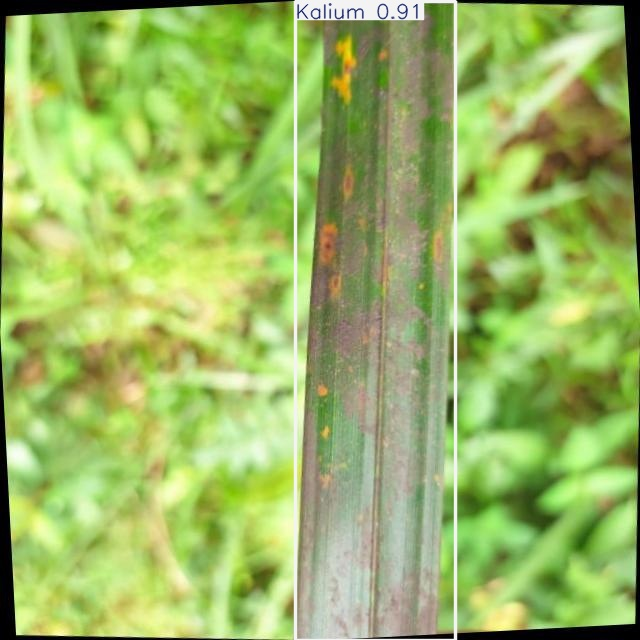Kalium: (295, 2, 455, 640)
